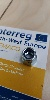Nut: (20, 46, 39, 67)
